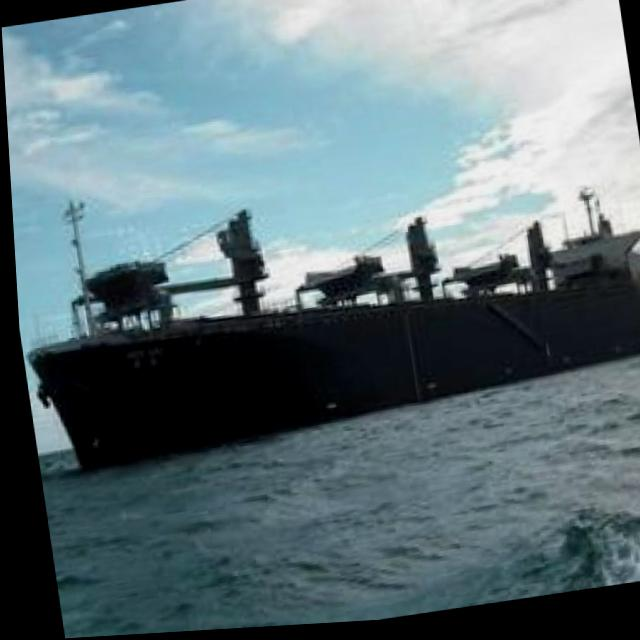ship2: (23, 193, 640, 471)
